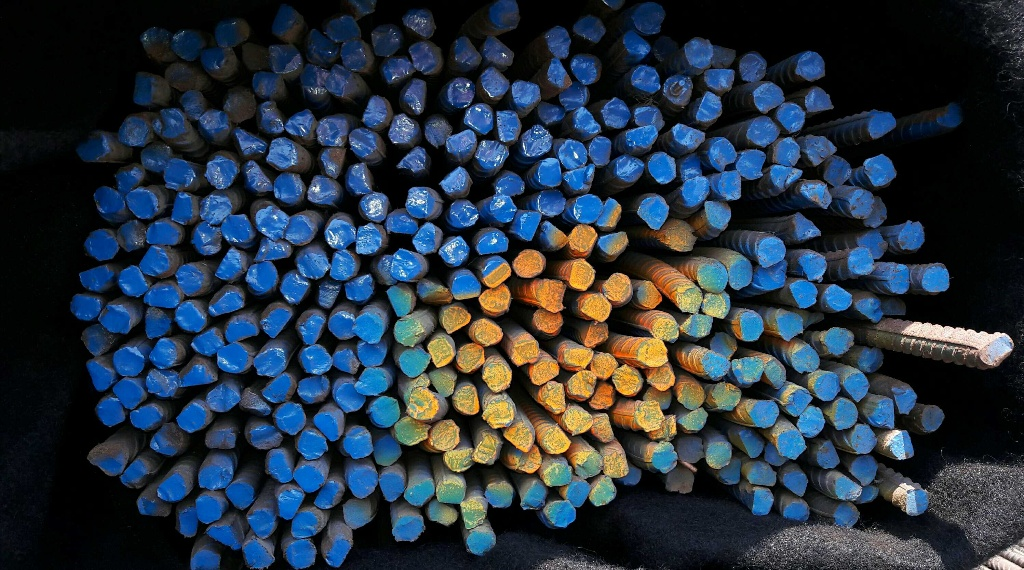dipstick: (222, 88, 257, 122), (255, 205, 289, 240), (92, 442, 128, 475), (199, 44, 237, 75), (77, 129, 111, 163), (307, 30, 341, 64), (261, 304, 293, 339), (270, 7, 305, 39), (339, 41, 375, 72), (206, 156, 239, 189), (273, 171, 306, 204), (270, 43, 303, 76), (234, 125, 268, 157), (150, 424, 184, 456), (637, 195, 668, 230), (324, 15, 362, 43), (135, 73, 168, 105), (296, 246, 329, 278), (284, 107, 316, 140), (520, 125, 552, 158), (152, 108, 186, 139), (84, 229, 118, 260), (215, 247, 246, 281), (262, 372, 296, 403), (324, 217, 355, 251), (402, 8, 436, 39), (407, 386, 438, 420), (296, 309, 326, 344), (146, 367, 181, 397), (200, 194, 232, 226), (316, 115, 348, 147), (142, 26, 175, 57), (372, 23, 403, 56), (390, 250, 423, 281), (632, 3, 665, 34), (612, 363, 643, 396), (980, 335, 1014, 365), (205, 524, 241, 552), (162, 159, 193, 191), (128, 187, 159, 219), (223, 214, 254, 246), (275, 402, 306, 434), (438, 235, 470, 266), (697, 260, 728, 292), (753, 82, 784, 114), (732, 309, 763, 341), (192, 222, 222, 255), (175, 301, 208, 331), (81, 325, 114, 355), (408, 43, 441, 73), (482, 360, 512, 393), (191, 328, 225, 357), (113, 379, 147, 408), (307, 176, 341, 205), (395, 416, 429, 445), (399, 80, 426, 116), (79, 265, 116, 291), (244, 160, 275, 191), (247, 261, 278, 292), (444, 77, 475, 108), (369, 396, 400, 427), (505, 421, 536, 452), (865, 154, 896, 185), (667, 220, 698, 251), (119, 116, 151, 146), (483, 35, 515, 65), (388, 114, 420, 144), (86, 358, 115, 391), (277, 488, 306, 521), (747, 117, 780, 146), (380, 56, 414, 84), (141, 143, 172, 173), (93, 187, 124, 217), (286, 215, 316, 246), (140, 246, 170, 277), (149, 337, 179, 368), (218, 343, 249, 373), (405, 187, 436, 217), (663, 75, 693, 106), (113, 347, 145, 376), (298, 429, 327, 461), (325, 64, 354, 96), (480, 67, 509, 99), (483, 399, 515, 428), (119, 219, 147, 252), (290, 510, 323, 538), (454, 35, 482, 68), (345, 163, 373, 196), (355, 368, 388, 396), (215, 19, 249, 46), (254, 348, 288, 375), (296, 376, 330, 403), (265, 450, 292, 484), (281, 273, 311, 303), (416, 279, 452, 304), (335, 383, 365, 413), (343, 498, 373, 528), (119, 266, 148, 297), (424, 117, 453, 148), (479, 140, 508, 171), (431, 420, 460, 451), (571, 53, 600, 84), (567, 260, 596, 291), (635, 400, 664, 431), (252, 70, 284, 98), (243, 540, 275, 568), (353, 314, 385, 342), (345, 426, 373, 458), (574, 15, 606, 43), (363, 96, 390, 129), (513, 250, 546, 277), (144, 283, 181, 307), (179, 361, 216, 385), (249, 422, 283, 448), (138, 492, 173, 517), (174, 31, 204, 60), (177, 402, 207, 431), (325, 537, 354, 567), (295, 464, 324, 494), (329, 251, 359, 280), (511, 80, 541, 109), (441, 165, 470, 195), (630, 65, 660, 94), (666, 463, 695, 493), (807, 135, 836, 165), (732, 356, 762, 385), (823, 327, 853, 356), (199, 109, 230, 137), (247, 509, 278, 537), (464, 103, 492, 134), (558, 82, 589, 110), (207, 384, 239, 411), (386, 208, 418, 235), (747, 400, 779, 427), (148, 220, 181, 246), (300, 346, 333, 372), (199, 463, 233, 488), (287, 539, 316, 568), (395, 317, 424, 346), (456, 343, 485, 372), (601, 98, 630, 127), (568, 225, 597, 254), (858, 231, 887, 260), (776, 430, 805, 459), (268, 138, 298, 166), (242, 386, 270, 416), (120, 459, 150, 487), (360, 191, 388, 221), (328, 312, 358, 340), (314, 481, 344, 509), (538, 382, 566, 412), (258, 101, 285, 132), (100, 306, 131, 333), (177, 265, 204, 296), (449, 200, 480, 227), (545, 501, 576, 528), (745, 460, 776, 487), (204, 424, 236, 450), (479, 284, 511, 310), (539, 280, 565, 312), (710, 138, 736, 170), (798, 406, 824, 438), (209, 292, 245, 315), (495, 109, 520, 142), (597, 196, 622, 229), (96, 397, 125, 425), (225, 481, 254, 509), (319, 148, 347, 177), (350, 128, 378, 157), (447, 130, 476, 158), (487, 194, 516, 222), (386, 287, 414, 316), (483, 260, 512, 288), (406, 479, 435, 507), (474, 436, 502, 465), (702, 290, 730, 319), (796, 52, 825, 80), (868, 112, 897, 140), (789, 280, 818, 308), (145, 307, 172, 337), (157, 474, 187, 501), (314, 412, 341, 442), (400, 350, 430, 377), (350, 467, 377, 497), (685, 37, 712, 67), (649, 153, 676, 183), (589, 475, 616, 505), (568, 370, 595, 400), (644, 362, 674, 389), (738, 149, 765, 179), (704, 201, 731, 231), (758, 237, 785, 267), (777, 310, 804, 340), (850, 454, 877, 484), (546, 26, 572, 57), (831, 399, 857, 430), (226, 316, 258, 341), (442, 306, 470, 334), (475, 317, 503, 345), (574, 194, 602, 222), (791, 345, 819, 373), (921, 264, 949, 292), (375, 436, 402, 465), (453, 385, 480, 414), (558, 140, 587, 167), (542, 427, 571, 454), (777, 103, 804, 132), (773, 138, 800, 167), (792, 212, 821, 239), (842, 373, 869, 402), (898, 221, 925, 250), (355, 223, 381, 253), (452, 274, 482, 300), (542, 220, 568, 250), (651, 442, 677, 472), (638, 339, 668, 365), (801, 183, 831, 209), (115, 166, 146, 191), (492, 171, 523, 196), (392, 516, 423, 541), (673, 124, 704, 149), (770, 165, 801, 190), (179, 91, 207, 118), (545, 60, 572, 88), (623, 30, 651, 57), (574, 107, 601, 135), (604, 273, 631, 301), (740, 53, 767, 81), (716, 172, 743, 200), (824, 158, 851, 186), (799, 254, 827, 281), (196, 494, 222, 523), (444, 446, 473, 472), (696, 93, 722, 122), (599, 232, 628, 258), (582, 295, 611, 321), (543, 461, 572, 487), (683, 176, 709, 205), (851, 425, 877, 454), (71, 293, 101, 318), (357, 342, 387, 367), (529, 359, 559, 384), (678, 407, 708, 432), (626, 126, 657, 150), (728, 258, 752, 289), (130, 406, 162, 429), (412, 222, 435, 254), (848, 247, 875, 274), (857, 346, 884, 373), (785, 388, 812, 415), (714, 383, 741, 410), (427, 339, 453, 367), (461, 500, 487, 528), (485, 482, 513, 508), (430, 368, 456, 396), (511, 338, 539, 364), (703, 350, 729, 378), (805, 86, 833, 112), (891, 386, 917, 414), (677, 286, 702, 315), (850, 190, 875, 219), (884, 264, 909, 293), (380, 472, 404, 502), (635, 106, 665, 130), (533, 309, 563, 333), (522, 479, 546, 509), (870, 398, 894, 428), (172, 191, 193, 225), (477, 230, 508, 253), (243, 43, 270, 69), (332, 347, 358, 374), (636, 281, 662, 308), (601, 451, 628, 477), (591, 352, 617, 379), (679, 383, 706, 409), (814, 373, 840, 400), (902, 490, 929, 516), (345, 275, 373, 300), (565, 166, 593, 191), (566, 480, 591, 508), (708, 333, 737, 357), (816, 440, 840, 469), (682, 315, 712, 338), (865, 197, 887, 228), (539, 190, 565, 216), (825, 285, 851, 311), (856, 298, 882, 324), (492, 1, 519, 26), (617, 155, 644, 180), (575, 451, 602, 476), (585, 320, 609, 348), (467, 531, 496, 554), (592, 413, 615, 442), (179, 505, 199, 538), (519, 211, 541, 241), (765, 358, 786, 389), (538, 158, 562, 185), (565, 345, 592, 369), (739, 431, 763, 458), (920, 405, 944, 432), (835, 477, 861, 501), (590, 135, 610, 166), (566, 409, 591, 433), (653, 318, 678, 342), (783, 472, 807, 497), (834, 503, 859, 527), (705, 444, 731, 467), (937, 104, 963, 127), (891, 431, 913, 458), (706, 69, 732, 91), (751, 488, 773, 514), (437, 481, 464, 502), (192, 550, 220, 570), (785, 501, 808, 521), (882, 297, 906, 316)
